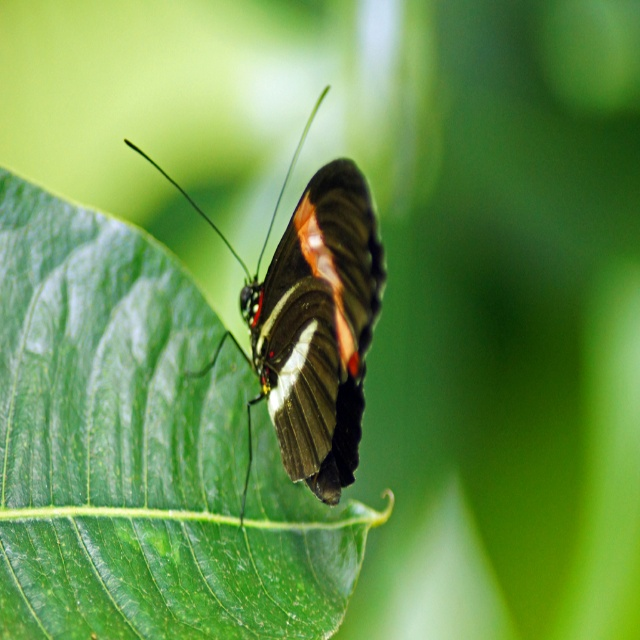Butterfly: (185, 107, 385, 536)
